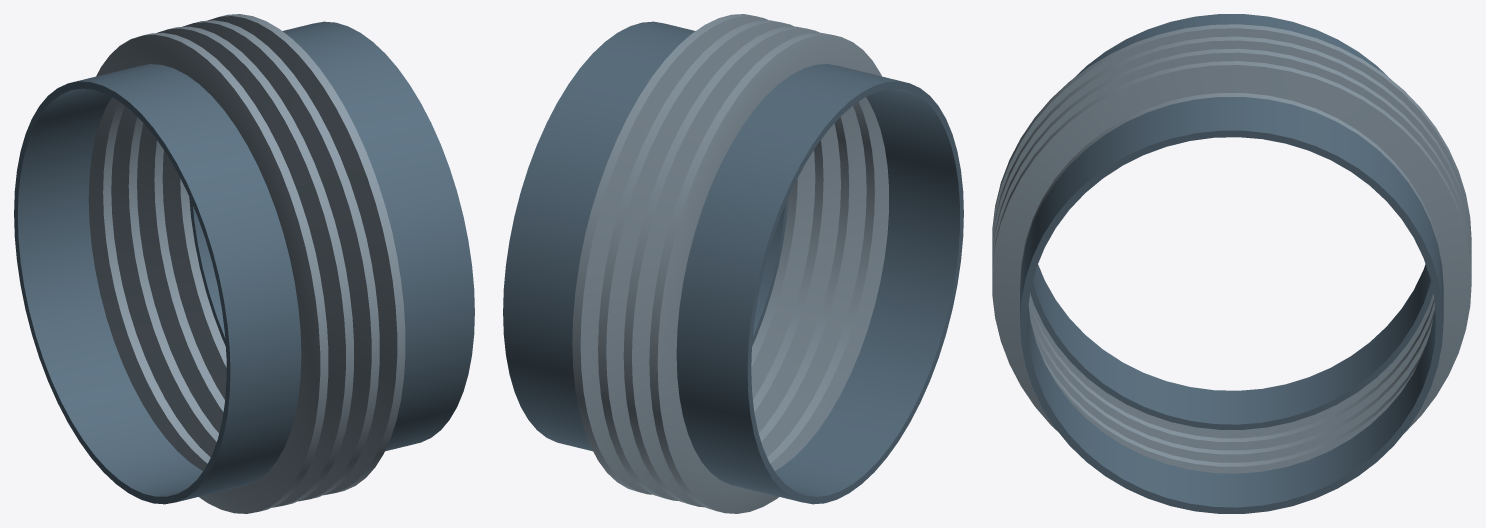
File: silf-dn900-L600-D920.glb
3 views of the same model, side by side, from view 1: azimuth 30°, elevation 25°; view 2: azimuth 150°, elevation 25°; view 3: azimuth 270°, elevation 25° (orthographic). The views are drawn at different scales.
Parts seen in each view (by area): view 1: prokladka_silfon_1, patrubok_1, patrubok_2; view 2: prokladka_silfon_1, patrubok_1, patrubok_2; view 3: prokladka_silfon_1, patrubok_2, patrubok_1.
Boxes of the visible parts, box(x1,y1,x2,y2) form: prokladka_silfon_1: box(88, 14, 405, 513); patrubok_1: box(14, 64, 301, 504); patrubok_2: box(189, 21, 474, 451); prokladka_silfon_1: box(572, 14, 888, 513); patrubok_1: box(676, 64, 963, 504); patrubok_2: box(503, 21, 788, 451); prokladka_silfon_1: box(992, 24, 1471, 473); patrubok_2: box(1020, 97, 1443, 513); patrubok_1: box(1030, 14, 1433, 429).
Bounding box in the file's own units: 600 × 1042 × 1042.
